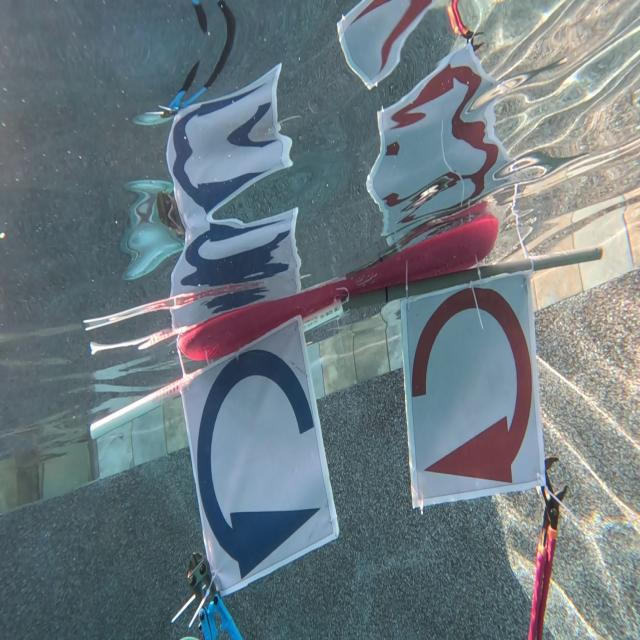blue_side: (195, 337, 327, 573)
red_side: (409, 278, 533, 498)
